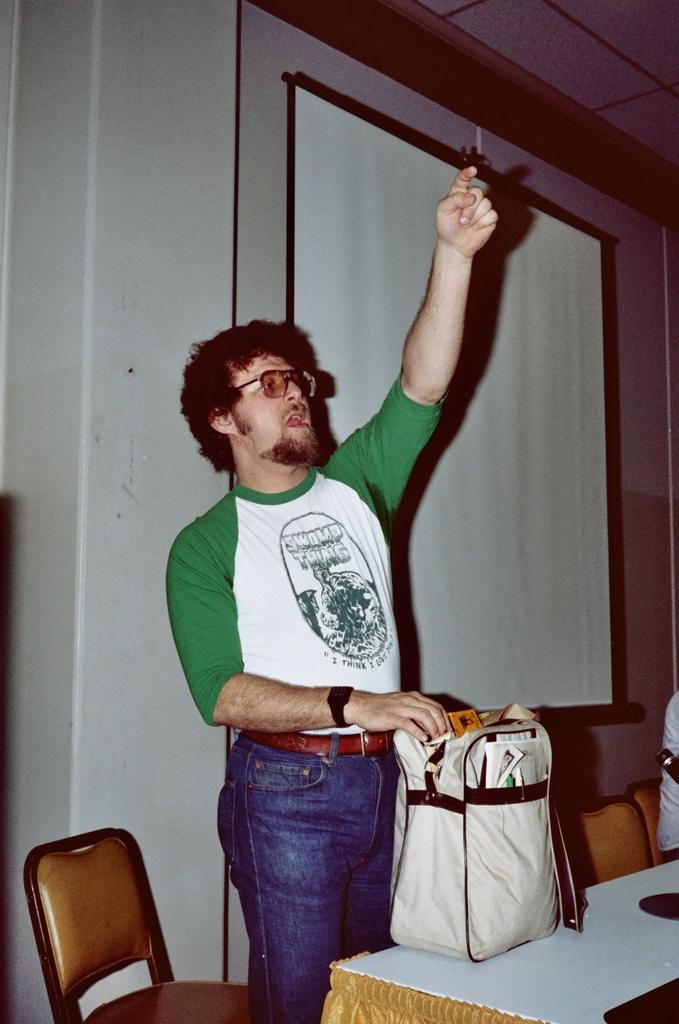Luggage-and-bags: (382, 703, 579, 958)
